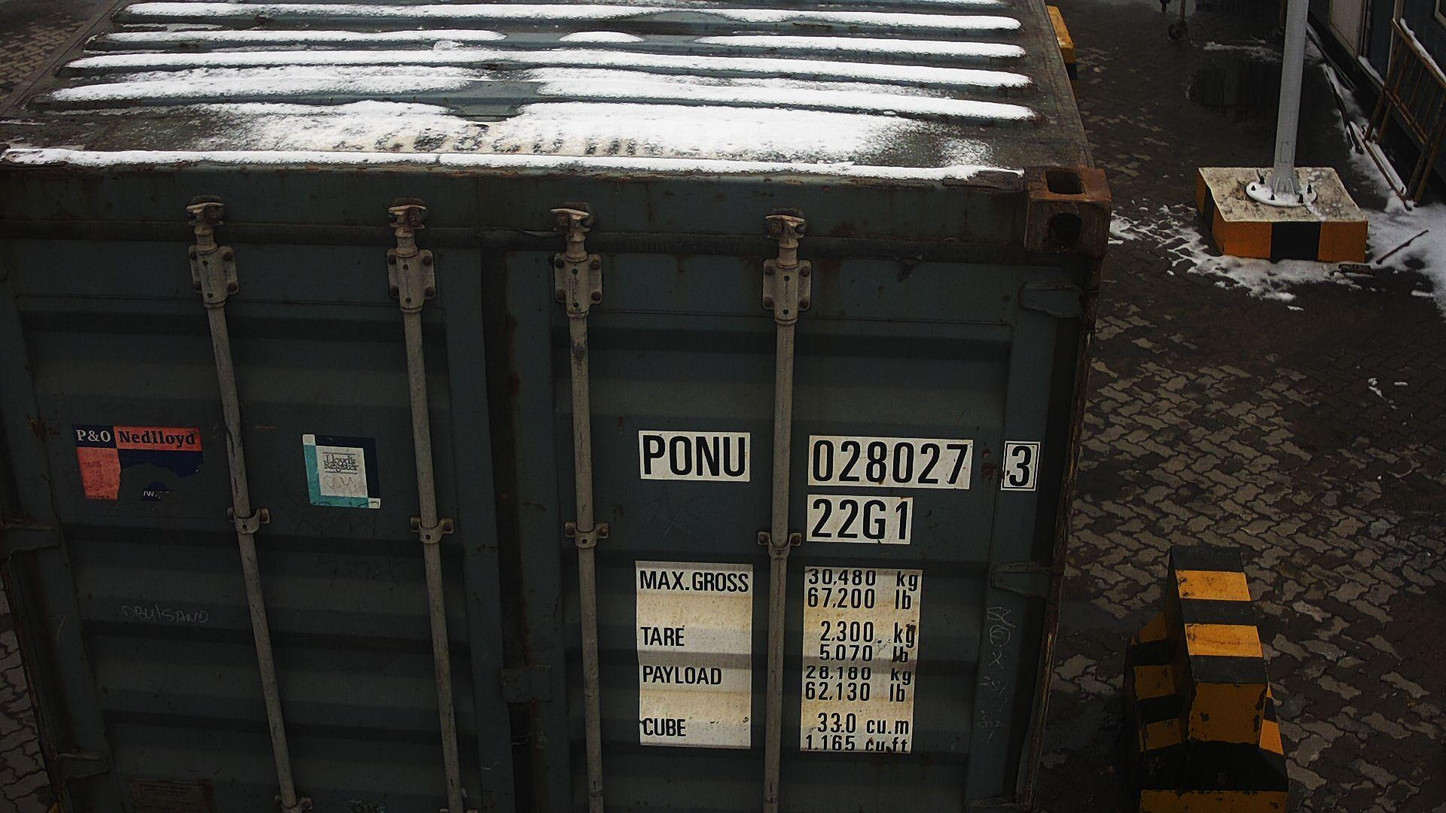container-numbers: (630, 428, 1047, 495), (806, 495, 916, 544)
